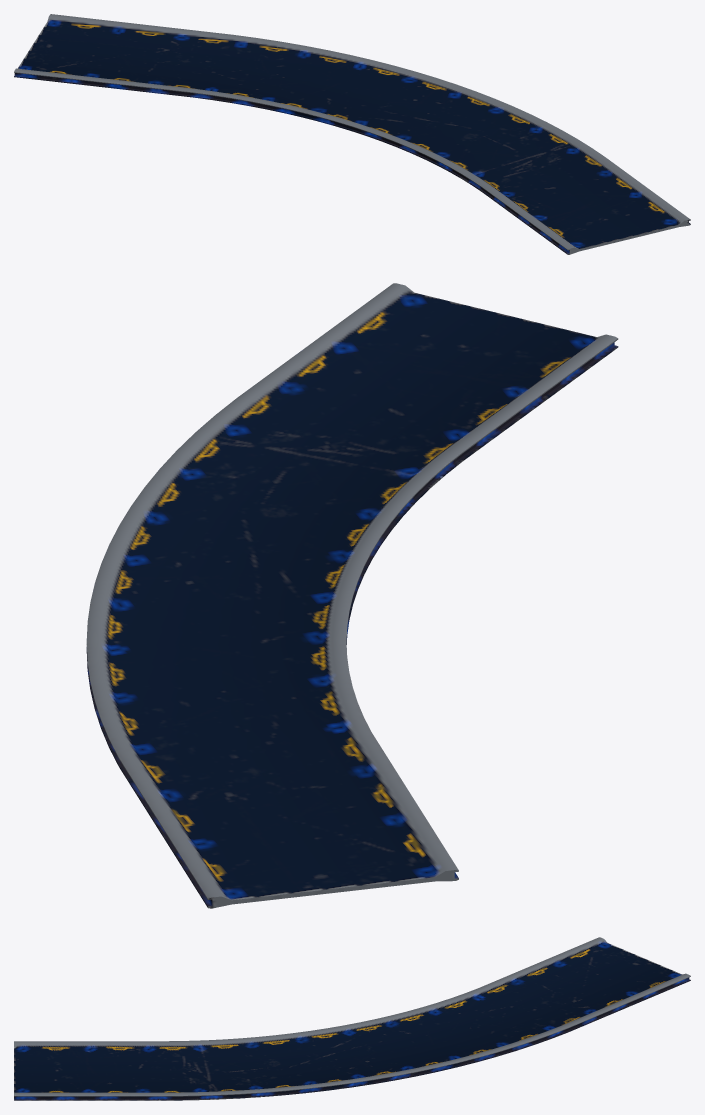
Rendered from SM_Roads_4.fbx.
3 renders of one model, top to bottom at view 1: azimuth 30°, elevation 25°; view 2: azimuth 150°, elevation 25°; view 3: azimuth 270°, elevation 25°, orthographic. The views are drawn at different scales.
Parts seen in each view (by area): view 1: SM_Roads_4; view 2: SM_Roads_4; view 3: SM_Roads_4.
Boxes of the visible parts, x1,y1,x2,y2 form: SM_Roads_4: (14,14,690,254); SM_Roads_4: (86,283,618,908); SM_Roads_4: (14,937,690,1100).
Bounding box in the file's own units: 1959 × 31.95 × 3529.
